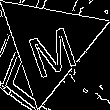M_N: (20, 11, 78, 75)
